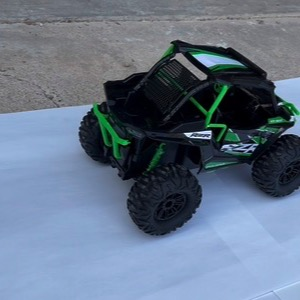polaris: (78, 39, 299, 238)
